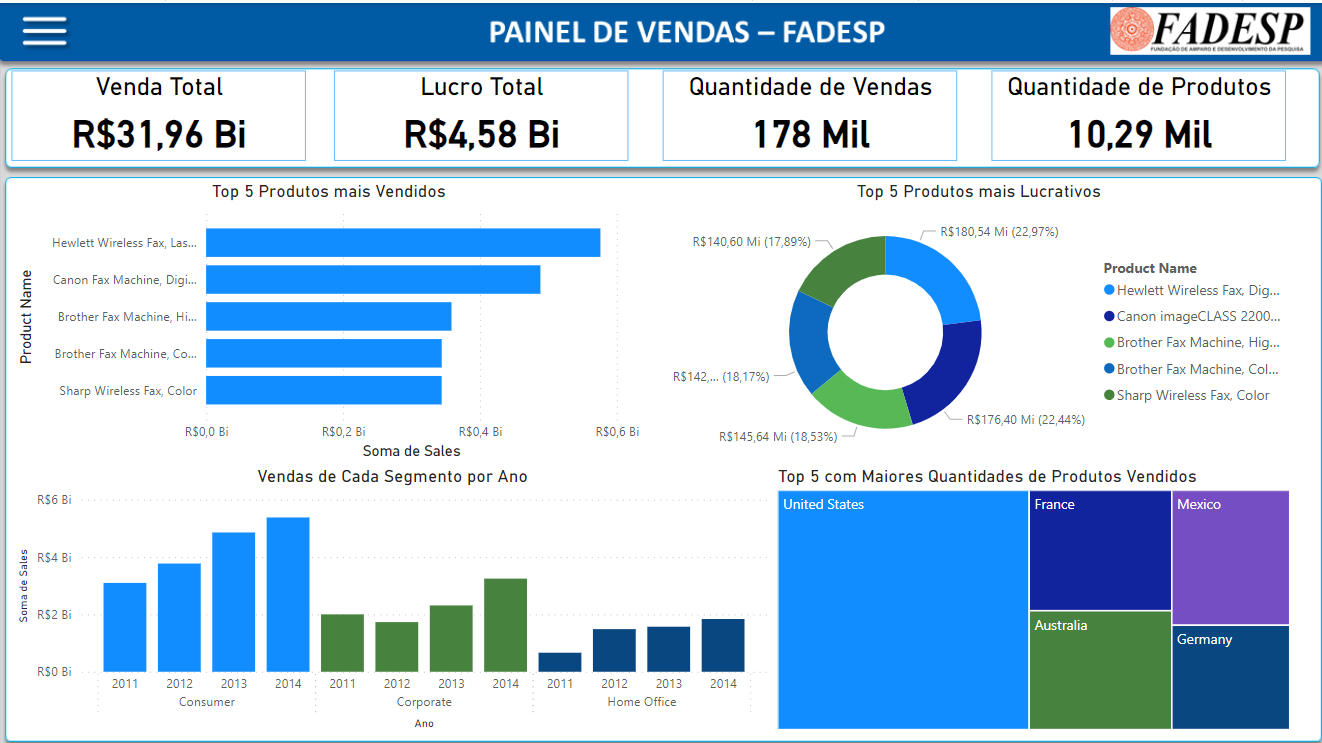

The dashboard page shown, as its layout file describes it:
{"tool":"powerbi","page":{"name":"Produto","canvas":[1280,720],"ordinal":3},"visuals":[{"type":"card","title":"Quantidade de Produtos","fields":{"Values":["Count(dataset_desafio_fadesp.Product ID)"]},"box":[957.5,65,283.8,87.5],"z":0},{"type":"card","title":"Venda Total","fields":{"Values":["Sum(dataset_desafio_fadesp.Sales)"]},"box":[12.5,65,283.8,87.5],"z":1000},{"type":"card","title":"Lucro Total","fields":{"Values":["Sum(dataset_desafio_fadesp.Profit)"]},"box":[323.8,65,283.8,87.5],"z":2000},{"type":"card","title":"Quantidade de Vendas","fields":{"Values":["Sum(dataset_desafio_fadesp.Quantity)"]},"box":[640,65,283.8,87.5],"z":3000},{"type":"barChart","title":"Top 5 Produtos mais Vendidos","fields":{"Category":["dataset_desafio_fadesp.Product Name"],"Y":["Sum(dataset_desafio_fadesp.Sales)"]},"box":[12.9,171.4,610,274.3],"z":4000},{"type":"donutChart","title":"Top 5 Produtos mais Lucrativos","fields":{"Category":["dataset_desafio_fadesp.Product Name"],"Y":["Sum(dataset_desafio_fadesp.Profit)"]},"box":[640,171.4,610,274.3],"z":5000},{"type":"clusteredColumnChart","title":"Vendas de Cada Segmento por Ano","fields":{"Category":["dataset_desafio_fadesp.Segment","dataset_desafio_fadesp.Order Date.Variation.Hierarquia de datas.Ano"],"Y":["Sum(dataset_desafio_fadesp.Sales)"]},"box":[12.9,445.7,732.9,260],"z":6000},{"type":"treemap","title":"Top 5 com Maiores Quantidades de  Produtos Vendidos","fields":{"Group":["dataset_desafio_fadesp.Country"],"Values":["Sum(dataset_desafio_fadesp.Quantity)"]},"box":[746,446,504,260],"z":7000},{"type":"actionButton","box":[0,0,98.6,62.9],"z":9000}]}

Visuals, with their boxes in screenshot pixels (x1, y1, x2, y2), scaled from the page's 1280x720 canvas onto the 1322x743 screenshot:
"Quantidade de Produtos" card: [989, 67, 1282, 157]
"Venda Total" card: [13, 67, 306, 157]
"Lucro Total" card: [334, 67, 628, 157]
"Quantidade de Vendas" card: [661, 67, 954, 157]
"Top 5 Produtos mais Vendidos" barChart: [13, 177, 643, 460]
"Top 5 Produtos mais Lucrativos" donutChart: [661, 177, 1291, 460]
"Vendas de Cada Segmento por Ano" clusteredColumnChart: [13, 460, 770, 728]
"Top 5 com Maiores Quantidades de  Produtos Vendidos" treemap: [770, 460, 1291, 729]
actionButton: [0, 0, 102, 65]
